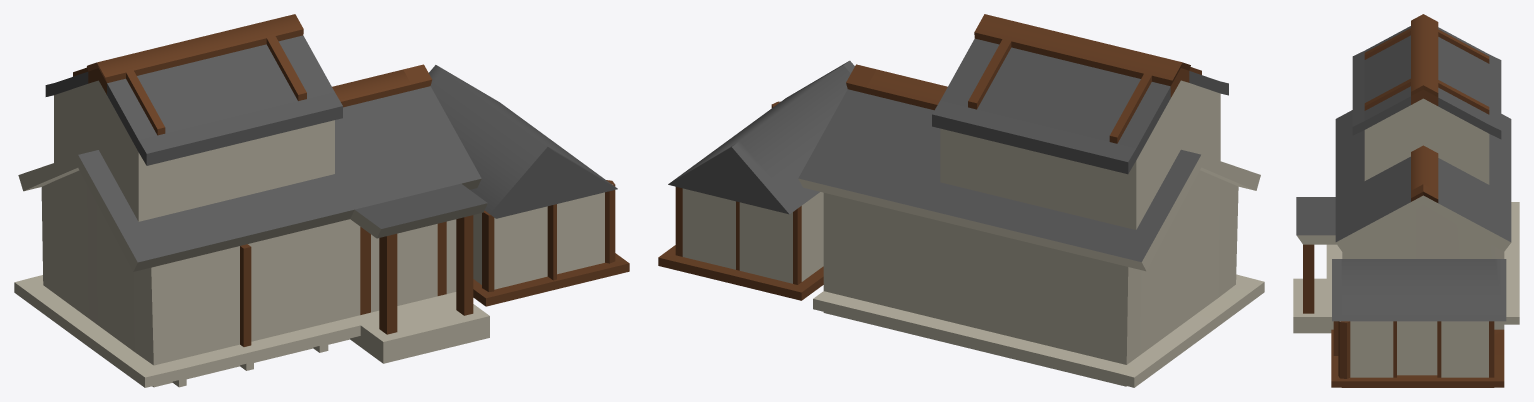
File: lesserbuildingModel1_Textured.fbx
3 renders of one model, left to right at view 1: azimuth 30°, elevation 25°; view 2: azimuth 150°, elevation 25°; view 3: azimuth 270°, elevation 25°, orthographic. The views are drawn at different scales.
Visible parts, largest first — view 1: lesserb1maincombined; view 2: lesserb1maincombined; view 3: lesserb1maincombined.
Part boxes in pixels (box(x1,y1,x2,y2)): lesserb1maincombined: box(14, 14, 629, 387); lesserb1maincombined: box(658, 14, 1264, 387); lesserb1maincombined: box(1293, 14, 1519, 387).
Bounding box in the file's own units: 1097 × 611 × 598.
